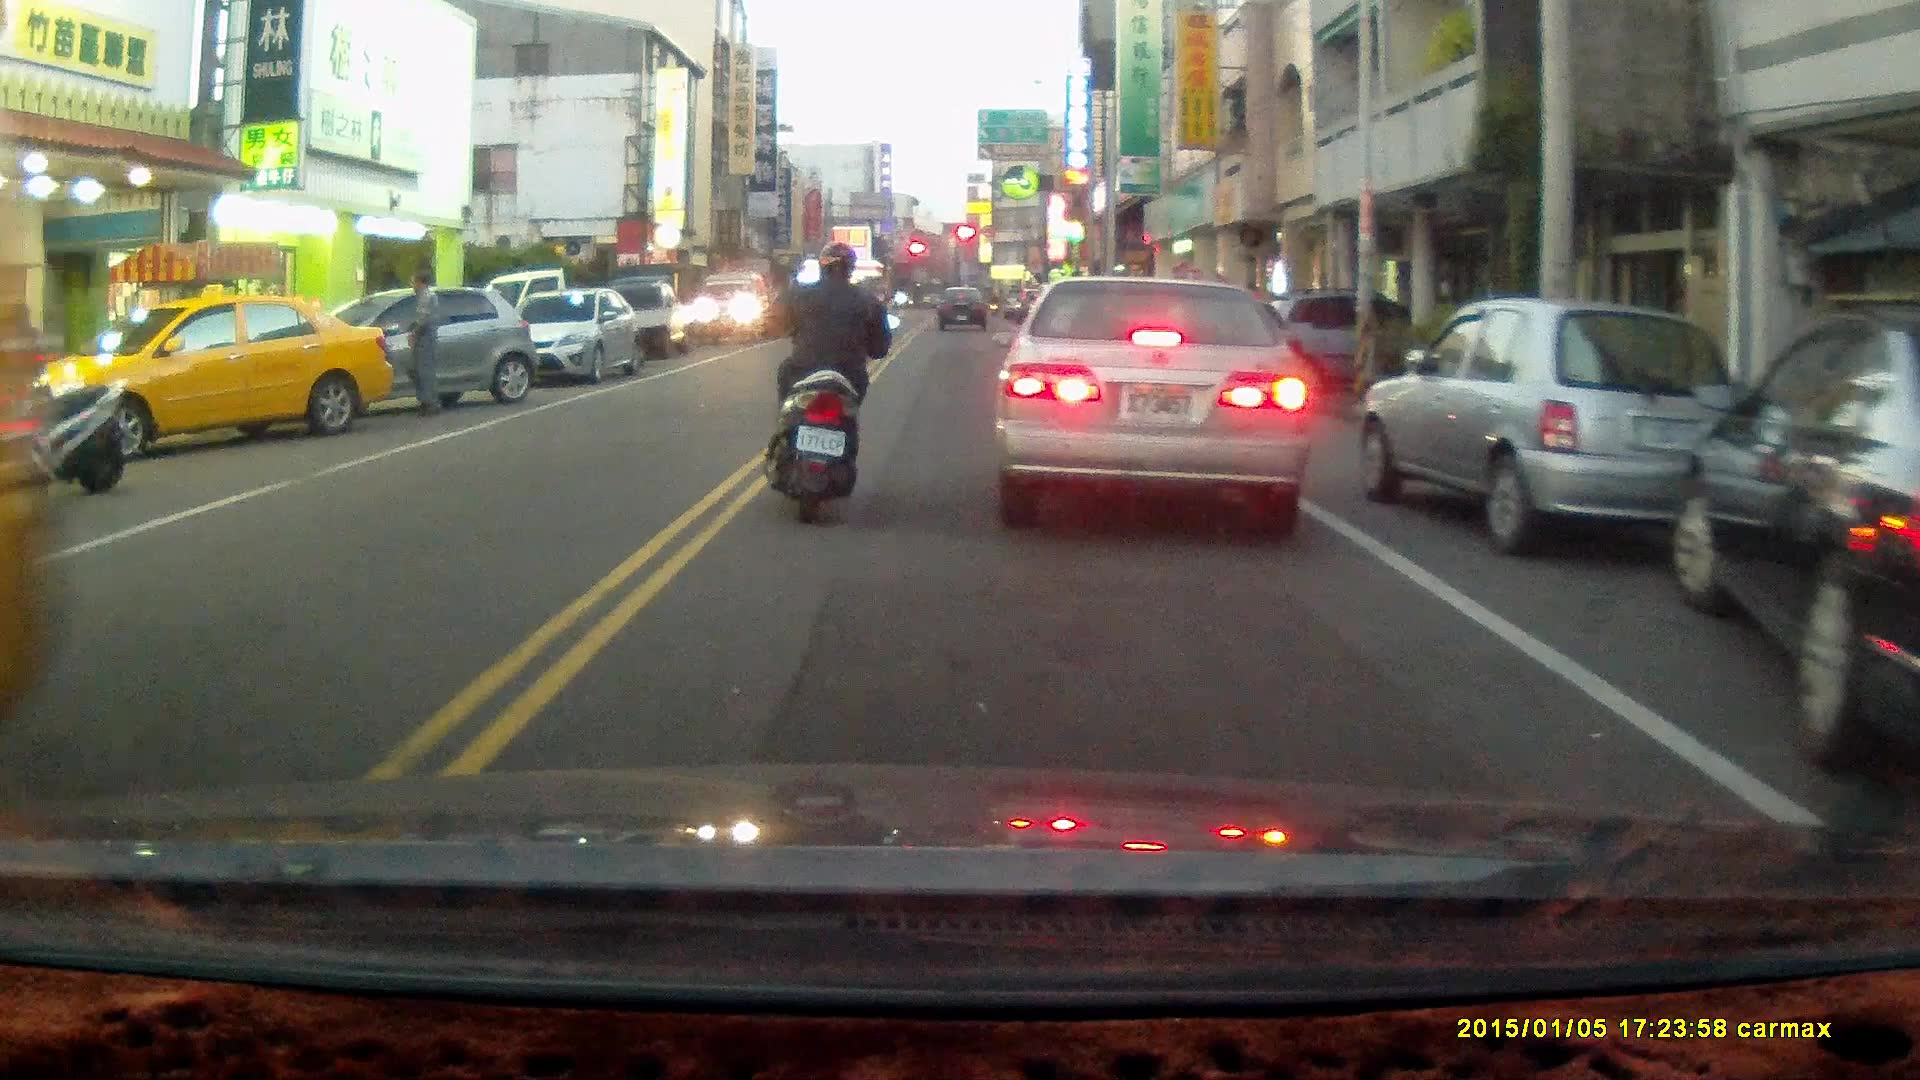pedestrian: (398, 269, 451, 418)
rider: (765, 238, 904, 525)
vehicle: (1667, 306, 1920, 780), (1359, 297, 1747, 555), (990, 272, 1314, 527), (25, 298, 405, 453), (308, 282, 534, 410), (1, 315, 62, 721), (515, 287, 644, 388), (691, 273, 776, 342)
